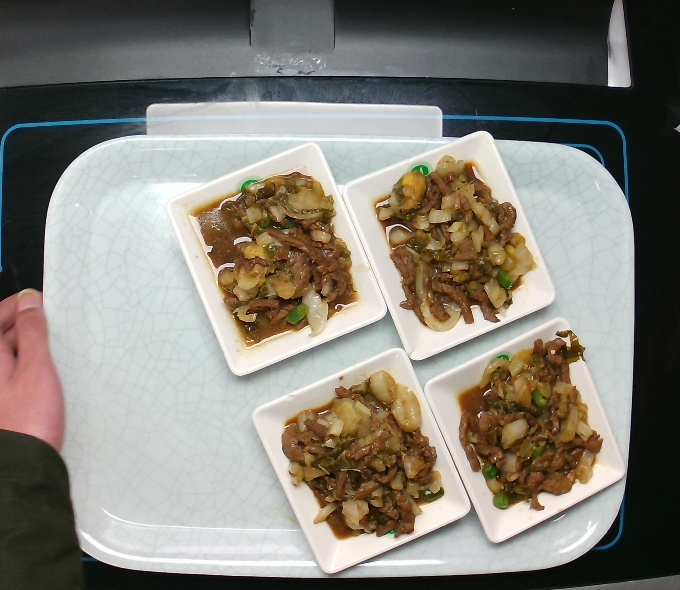wcq-PaoCaiNiuRou: (455, 333, 621, 510), (278, 369, 444, 546), (372, 159, 538, 336), (196, 166, 362, 343)
